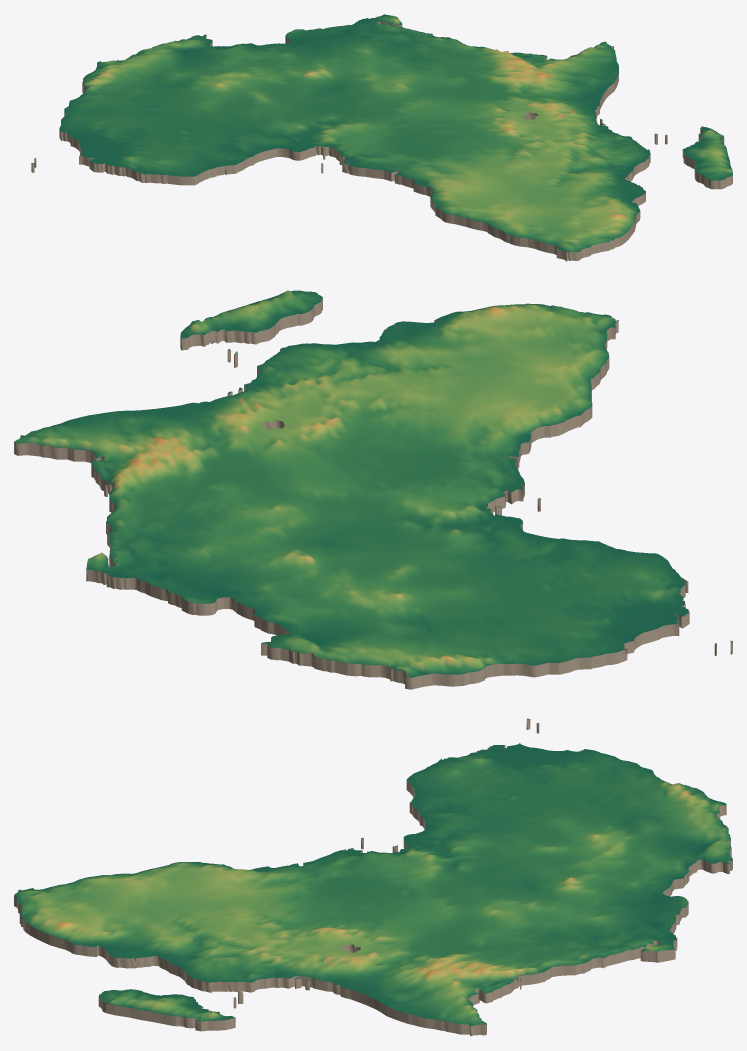
Rendered from africa-terrain.glb.
3 renders of one model, top to bottom at view 1: azimuth 30°, elevation 25°; view 2: azimuth 150°, elevation 25°; view 3: azimuth 270°, elevation 25°, orthographic. The views are drawn at different scales.
Visible parts, largest first — view 1: africa: norte em -Z, leste em +X, elevação em +Y; view 2: africa: norte em -Z, leste em +X, elevação em +Y; view 3: africa: norte em -Z, leste em +X, elevação em +Y.
Boxes of the visible parts, x1,y1,x2,y2 form: africa: norte em -Z, leste em +X, elevação em +Y: [31, 14, 732, 261]; africa: norte em -Z, leste em +X, elevação em +Y: [14, 290, 732, 689]; africa: norte em -Z, leste em +X, elevação em +Y: [14, 718, 732, 1036].
Bounding box in the file's own units: 1.7 × 0.0485 × 1.66.
